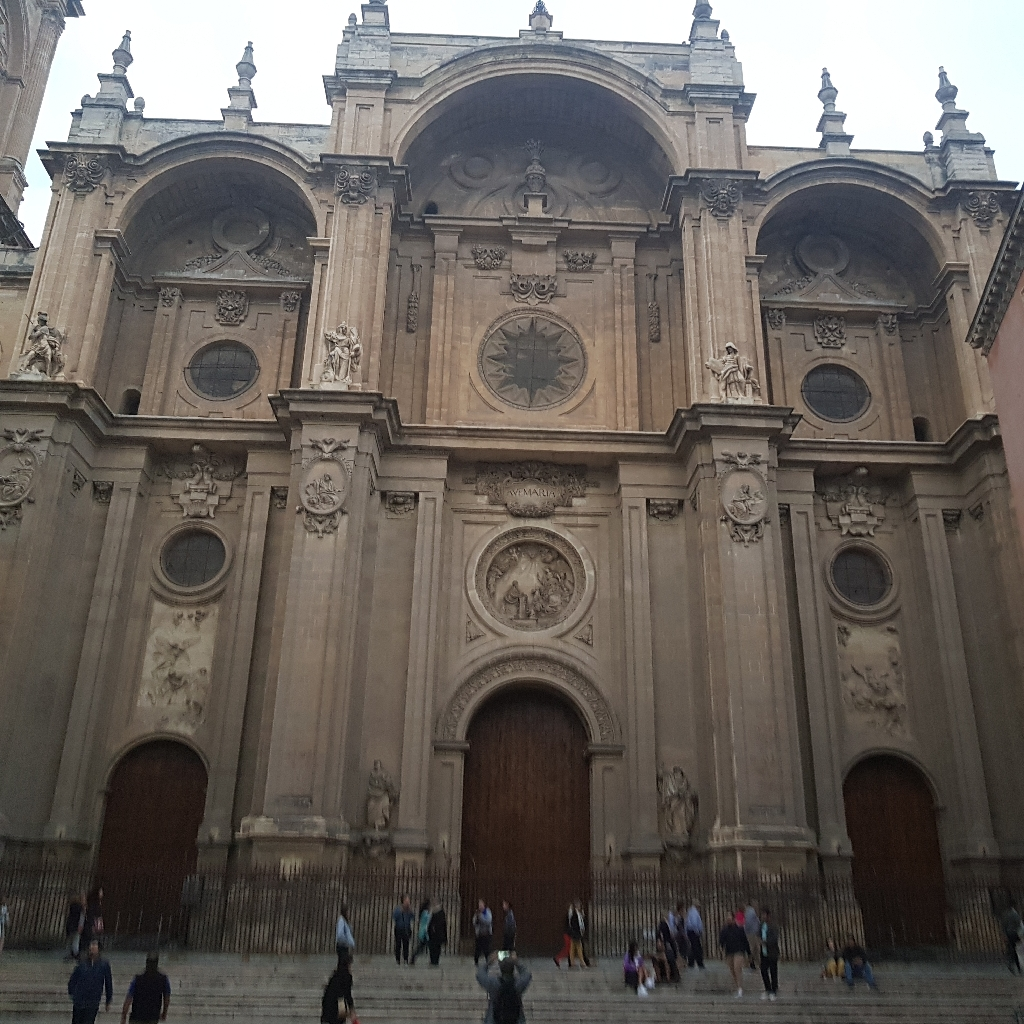arco-medio-punto: (381, 59, 695, 235), (749, 176, 966, 305), (102, 149, 323, 274), (454, 669, 611, 783), (92, 728, 211, 822), (839, 743, 945, 828)
ojo-de-buey: (152, 520, 231, 595), (822, 537, 901, 610), (182, 332, 263, 400), (800, 356, 875, 422)
